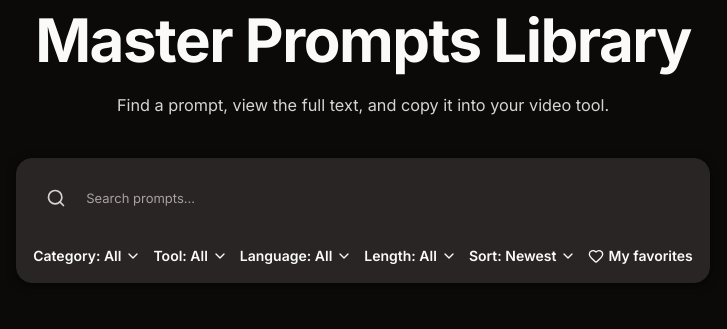
Test: PromptTopSection (step 1, filter row) › keeps only one dropdown open at a time
Click the button "Category: All".
click(87, 256)  # box [33,246,142,266]
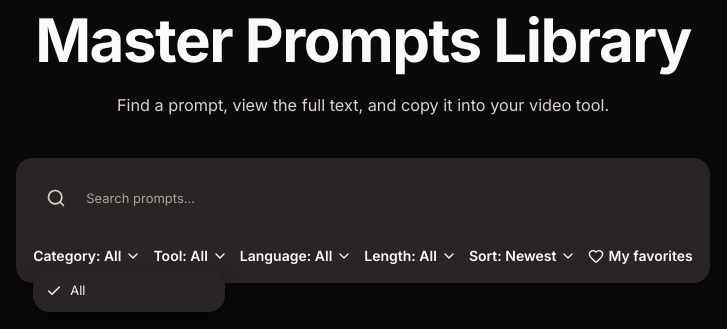
Click the button "Tool: All".
click(191, 256)  # box [154,246,228,266]
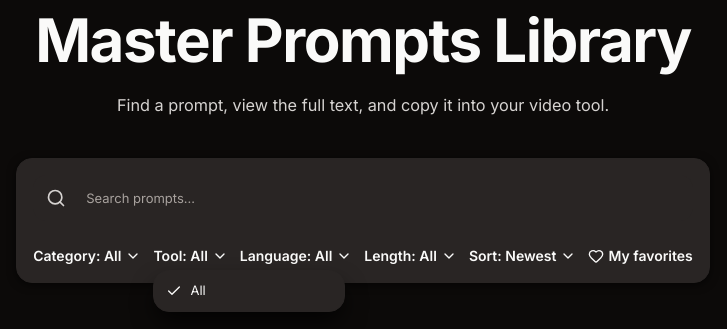
expect the list with test id "prompt-top-section-filter-tool-options" is shown: met, box [154,270,346,312]
expect the list with test id "prompt-top-section-filter-category-options" is gone: met
